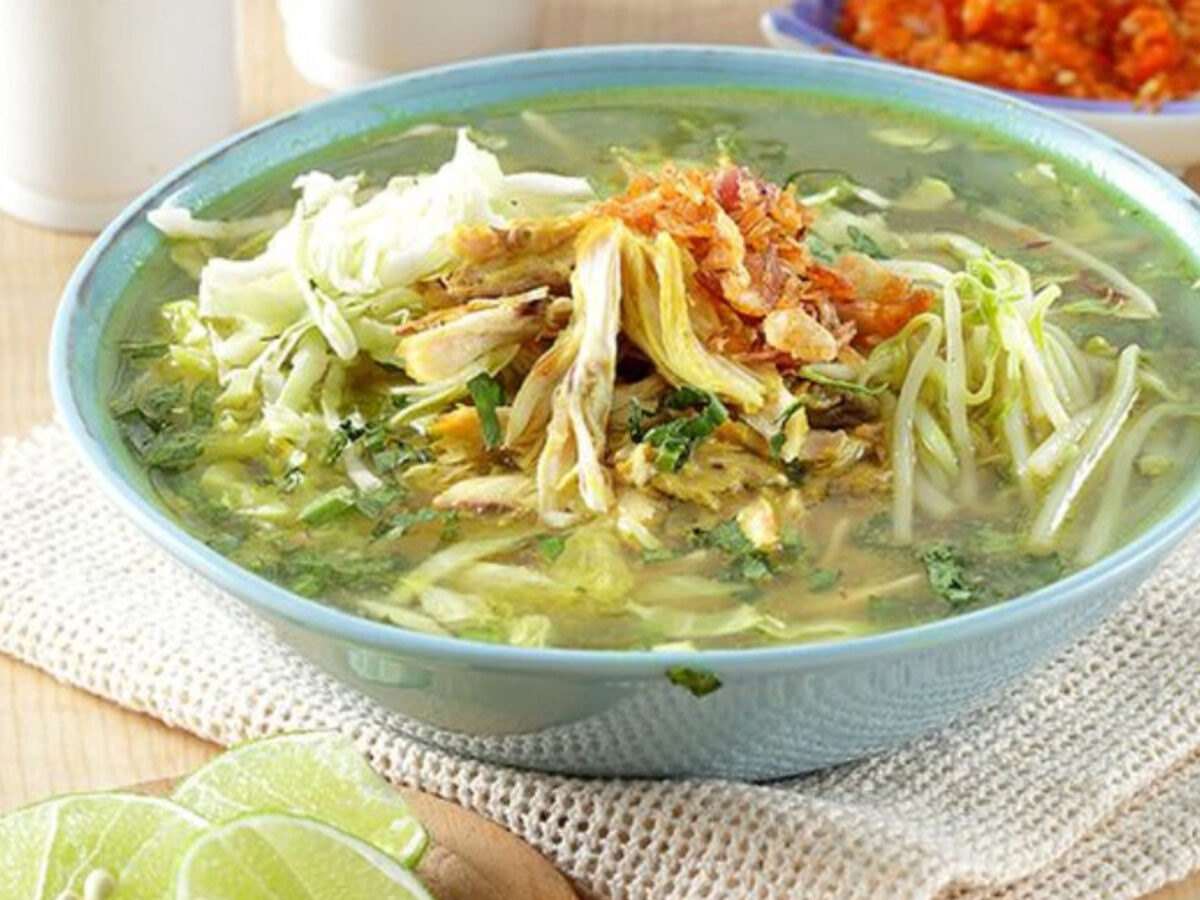soto: (65, 57, 1189, 620)
